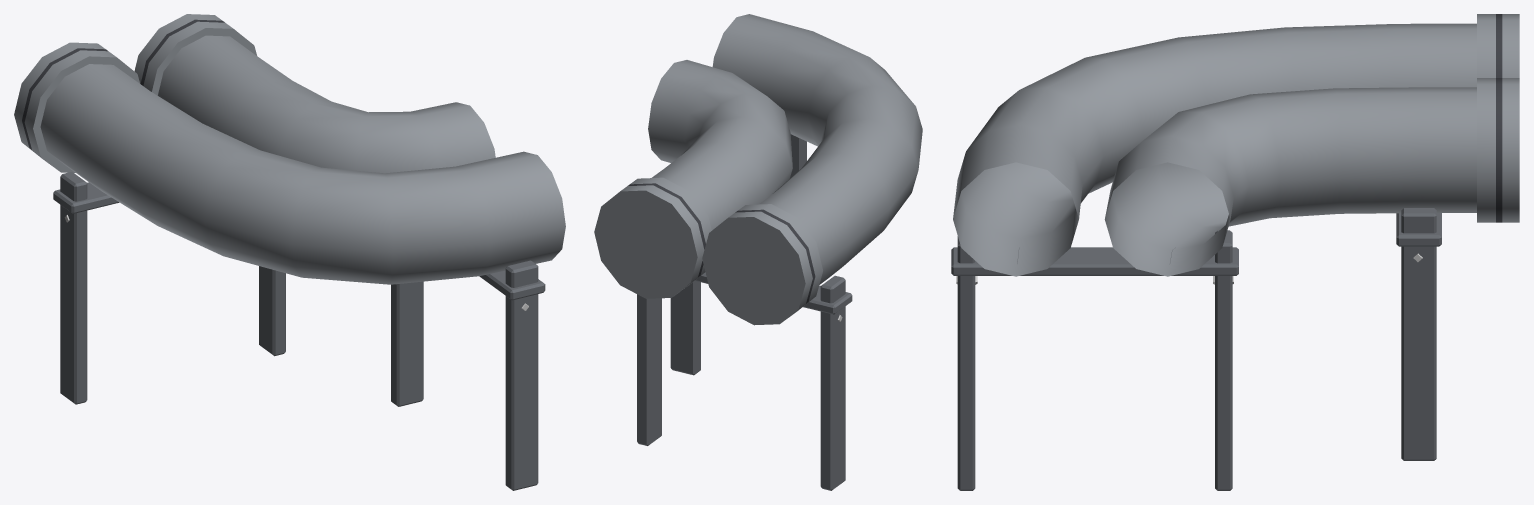
File: SM_Pipe_2.fbx
The picture shows the model from 3 angles, left to right: view 1: azimuth 30°, elevation 25°; view 2: azimuth 150°, elevation 25°; view 3: azimuth 270°, elevation 25°; orthographic projection. The views are drawn at different scales.
Parts seen in each view (by area): view 1: SM_Pipe_2_LOD0; view 2: SM_Pipe_2_LOD0; view 3: SM_Pipe_2_LOD0.
Part boxes in pixels (box(x1,y1,x2,y2)): SM_Pipe_2_LOD0: box(14, 14, 565, 490); SM_Pipe_2_LOD0: box(594, 14, 922, 490); SM_Pipe_2_LOD0: box(951, 14, 1519, 490).
Size of the model in its own units: 246 by 360 by 246.
1 material, 1 textured.
